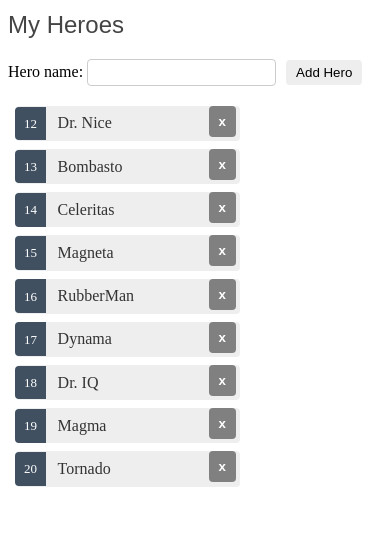
Test: Heroes Component › adds a new hero to the list
In the field: [182, 72] box [87,59,276,86], type "Space Man"
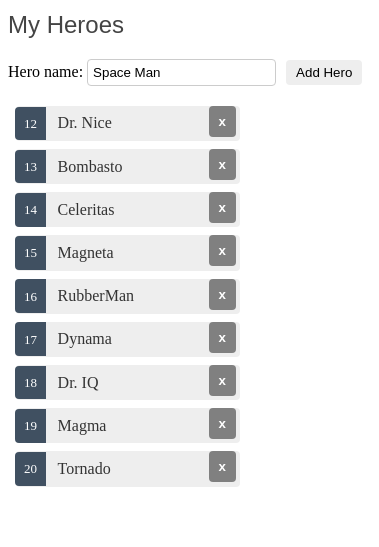
Click the button "Add Hero": [324, 72] box [286,60,362,85]
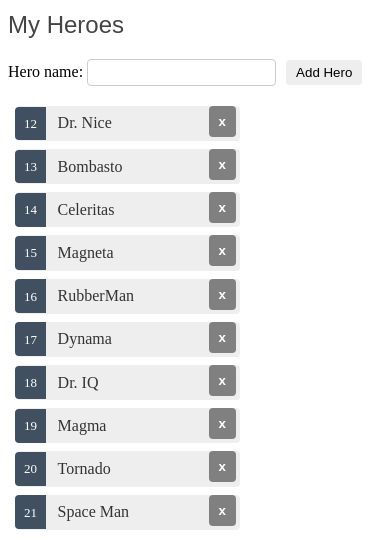
Now the link "21 Space Man" is shown, box [15,495,129,529]
